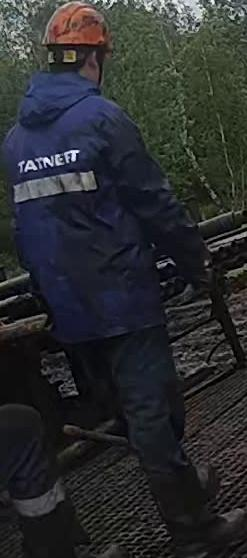helmet: (40, 0, 110, 49)
vest: (1, 70, 170, 343)
